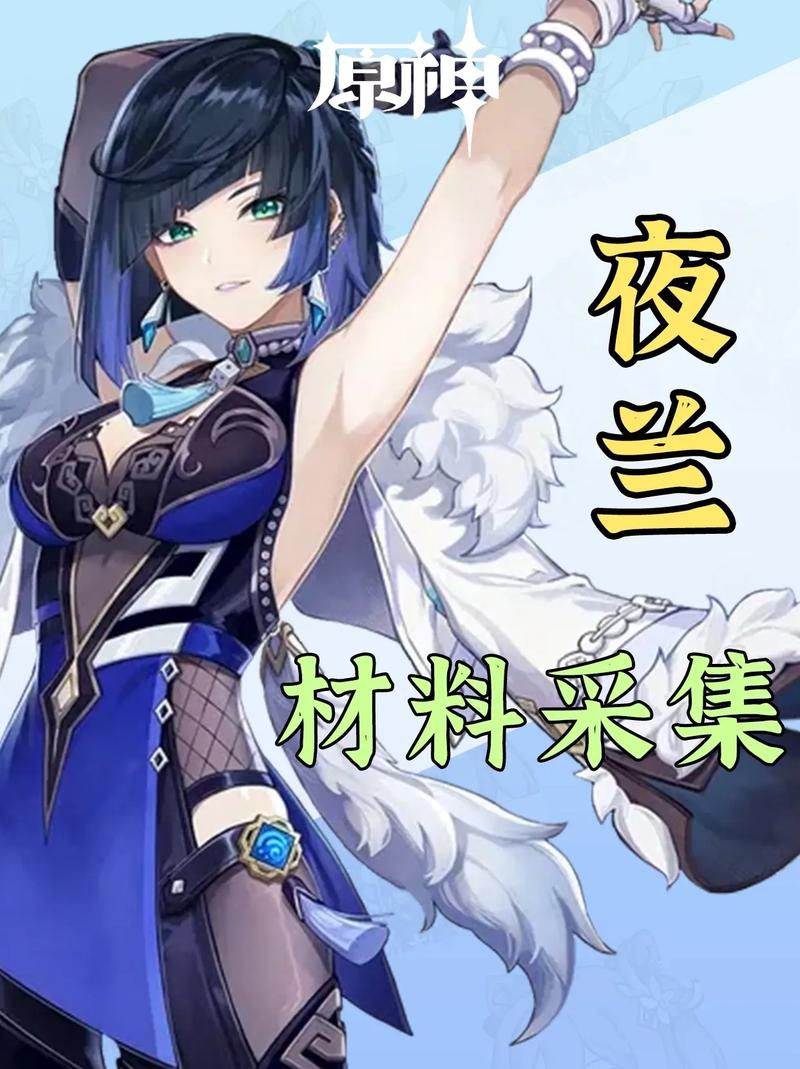夜兰: (1, 1, 740, 1069)
